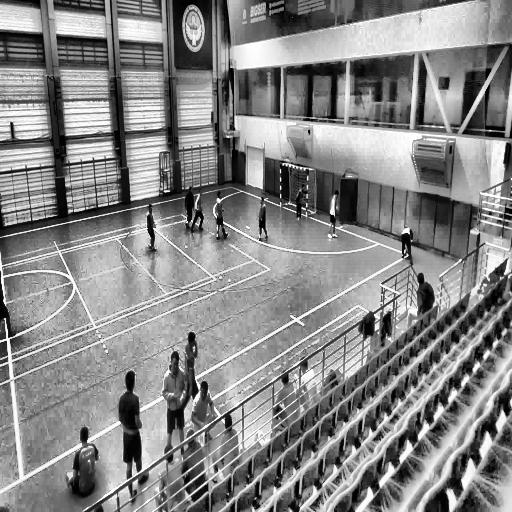ball: (403, 249, 407, 256)
player: (118, 370, 145, 506), (162, 350, 193, 455), (68, 425, 100, 502), (154, 444, 184, 508), (270, 369, 300, 428), (180, 430, 206, 498), (212, 411, 239, 475), (192, 379, 216, 444), (294, 353, 318, 410), (184, 332, 198, 404), (213, 189, 228, 244), (183, 186, 198, 231), (146, 203, 159, 254), (190, 188, 205, 232), (401, 225, 415, 270), (327, 188, 339, 240), (257, 195, 268, 244), (295, 182, 307, 222)
